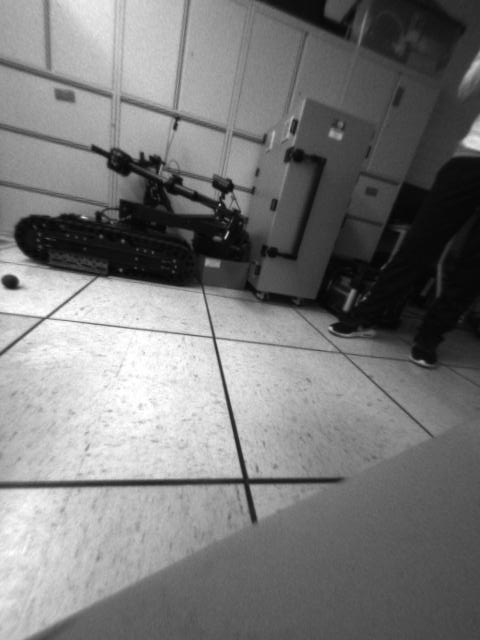dogtoy: (1, 269, 27, 295)
